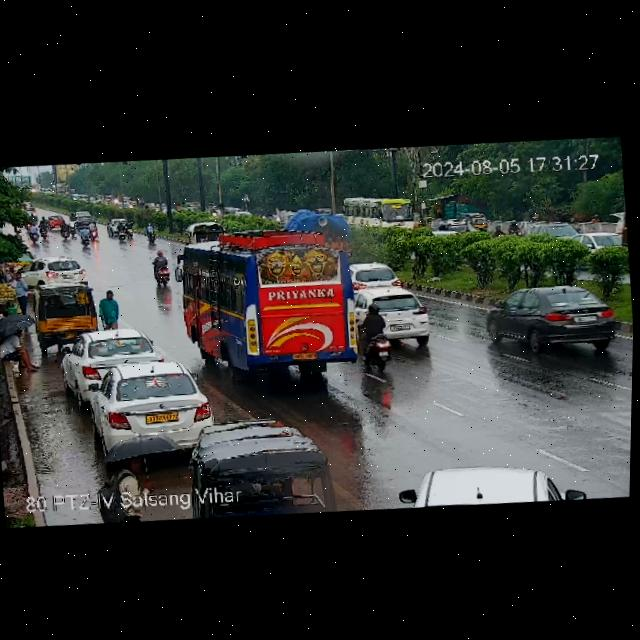bus: (175, 216, 365, 391), (347, 197, 422, 237)
car: (383, 447, 591, 516), (80, 356, 212, 454), (480, 274, 620, 359), (238, 414, 343, 512), (60, 323, 162, 391), (352, 280, 444, 351), (28, 278, 106, 348), (18, 253, 91, 289)
motorcycle: (360, 303, 395, 371), (142, 248, 173, 289), (77, 225, 94, 247), (115, 220, 125, 242), (125, 218, 135, 238), (145, 224, 156, 242)
person: (0, 327, 38, 379), (9, 270, 35, 313), (95, 286, 120, 327)
